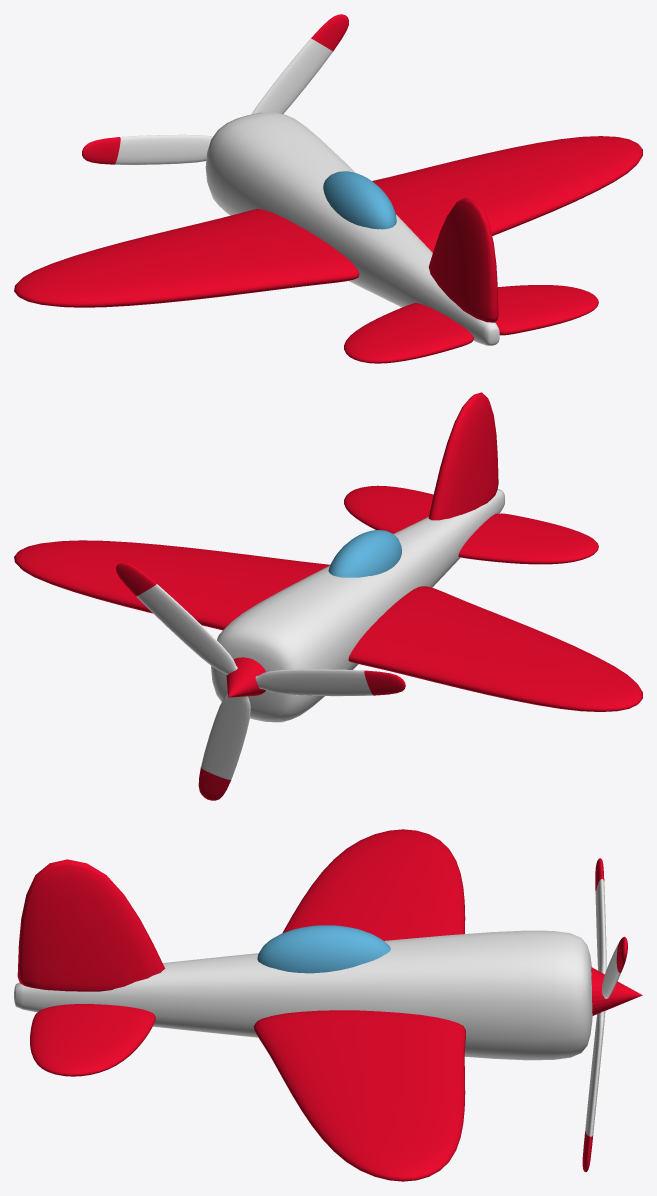
The model's file is planeUV.glb.
The picture shows the model from 3 angles, top to bottom: view 1: azimuth 30°, elevation 25°; view 2: azimuth 150°, elevation 25°; view 3: azimuth 270°, elevation 25°; orthographic projection. The views are drawn at different scales.
Parts seen in each view (by area): view 1: Cube004, plane, Cube005, Cube006, Cube002, Cube, Sphere; view 2: Cube004, plane, Cube005, Cube006, Cube002, Cube, Cube001, Sphere, Cone; view 3: Cube004, plane, Cube006, Cube005, Sphere, Cube001, Cube002, Cone, Cube.
Boxes of the visible parts, x1,y1,x2,y2 form: Cube004: (14, 136, 642, 307); plane: (205, 112, 499, 345); Cube005: (344, 285, 598, 363); Cube006: (428, 197, 498, 322); Cube002: (82, 134, 212, 164); Cube: (252, 14, 348, 114); Sphere: (323, 171, 396, 229); Cube004: (14, 540, 642, 711); plane: (211, 489, 504, 722); Cube005: (344, 485, 598, 564); Cube006: (428, 392, 498, 520); Cube002: (255, 669, 405, 696); Cube: (116, 563, 237, 674); Cube001: (198, 694, 250, 800); Sphere: (328, 530, 401, 577); Cone: (226, 657, 265, 697); Cube004: (253, 829, 465, 1181); plane: (14, 930, 592, 1060); Cube006: (17, 859, 165, 991); Cube005: (30, 1004, 155, 1076); Sphere: (257, 925, 390, 973); Cube001: (582, 1011, 605, 1172); Cube002: (595, 858, 606, 974); Cone: (591, 967, 642, 1015); Cube: (602, 936, 627, 998).
Size of the model in its own units: 725 by 280 by 552.
